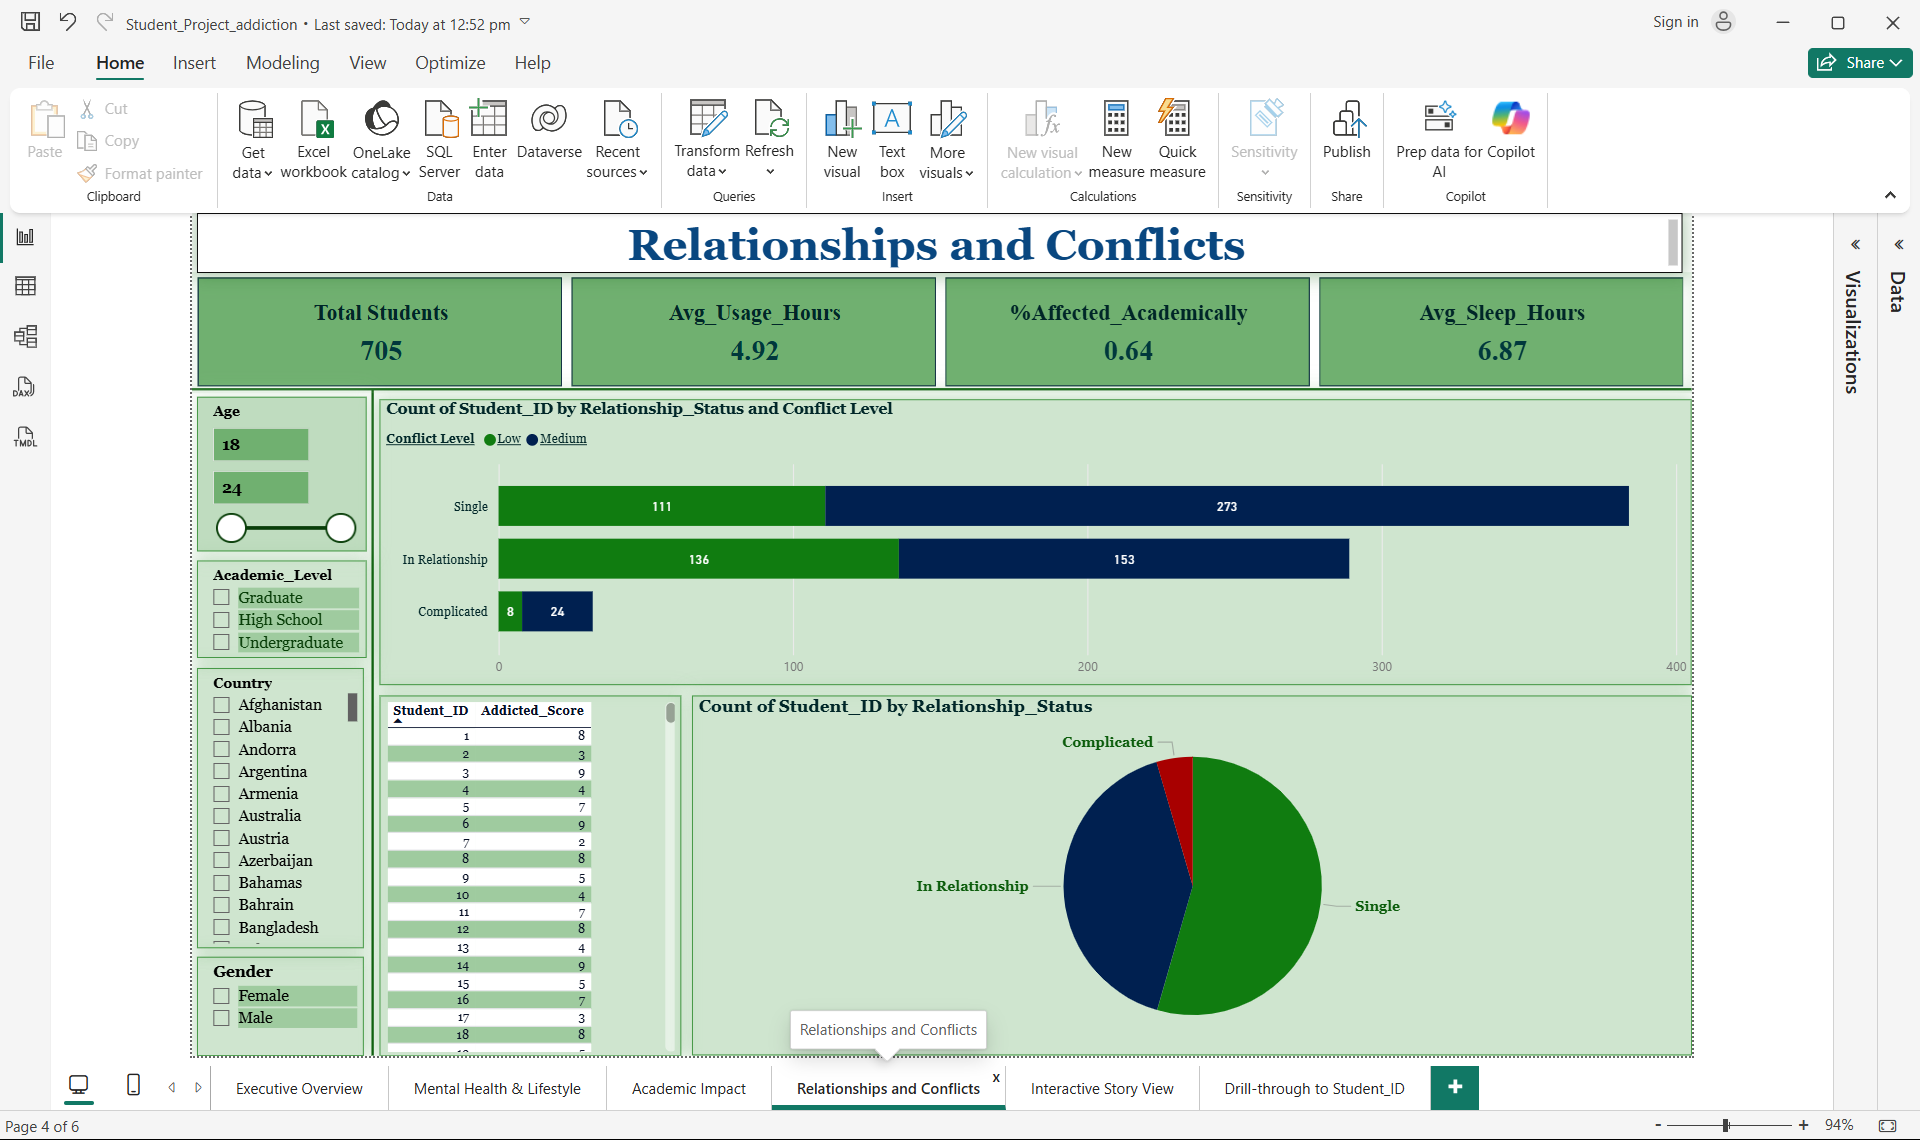

Layout of this report page (visuals, bound fields, positions):
{"tool":"powerbi","page":{"name":"Relationships and Conflicts","canvas":[1280,720],"ordinal":3},"visuals":[{"type":"barChart","fields":{"Category":["Student Details.Relationship_Status"],"Y":["CountNonNull(Student Details.Student_ID)"],"Series":["Student Details.Conflict Level"]},"box":[160.3,159.2,1120.1,243.9],"z":0},{"type":"tableEx","fields":{"Values":["Student Details.Student_ID","Student Details.Addicted_Score"]},"box":[160.3,412.1,257.4,308.3],"z":1000},{"type":"pieChart","fields":{"Category":["Student Details.Relationship_Status"],"Y":["CountNonNull(Student Details.Student_ID)"]},"box":[426.8,412.1,853.6,307.1],"z":2000},{"type":"shape","box":[148.3,150.4,11.7,568.7],"z":3000},{"type":"shape","box":[0,144,1280.4,12.8],"z":4000},{"type":"cardVisual","fields":{"Data":["Student Details.Total Students","Student Details.Avg_Usage_Hours","Student Details.%Affected_Academically","Student Details.Avg_Sleep_Hours"]},"box":[0,50,1280.2,103.5],"z":5000},{"type":"textbox","box":[4.5,0,1268,50.9],"z":6000},{"type":"slicer","fields":{"Values":["Student Details.Gender"]},"box":[4.5,635.3,142.3,84.7],"z":7000},{"type":"slicer","fields":{"Values":["Student Details.Country"]},"box":[4.5,388.4,142.3,239.4],"z":8000},{"type":"slicer","fields":{"Values":["Student Details.Academic_Level"]},"box":[4.5,297,144.5,83.6],"z":9000},{"type":"slicer","fields":{"Values":["Student Details.Age"]},"box":[4.5,157,144.5,132.1],"z":10000}]}

Visuals, with their boxes on the page's 1280x720 design canvas (x1, y1, x2, y2). These are canvas units, not pixel positions in the 1920x1140 screenshot, which may show the page scaled, cropped or inside an application window:
barChart - Student Details.Relationship_Status x CountNonNull(Student Details.Student_ID): locate(160, 159, 1280, 403)
tableEx - Student Details.Student_ID x Student Details.Addicted_Score: locate(160, 412, 418, 720)
pieChart - Student Details.Relationship_Status x CountNonNull(Student Details.Student_ID): locate(427, 412, 1280, 719)
shape: locate(148, 150, 160, 719)
shape: locate(0, 144, 1280, 157)
cardVisual - Student Details.Total Students x Student Details.Avg_Usage_Hours: locate(0, 50, 1280, 154)
textbox: locate(4, 0, 1272, 51)
slicer - Student Details.Gender: locate(4, 635, 147, 720)
slicer - Student Details.Country: locate(4, 388, 147, 628)
slicer - Student Details.Academic_Level: locate(4, 297, 149, 381)
slicer - Student Details.Age: locate(4, 157, 149, 289)
